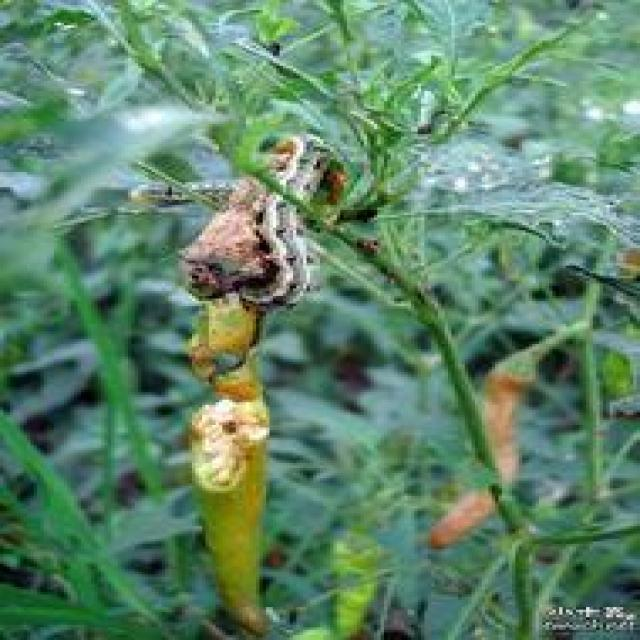BeetArmyWorm-Larva-: (233, 126, 347, 318)
